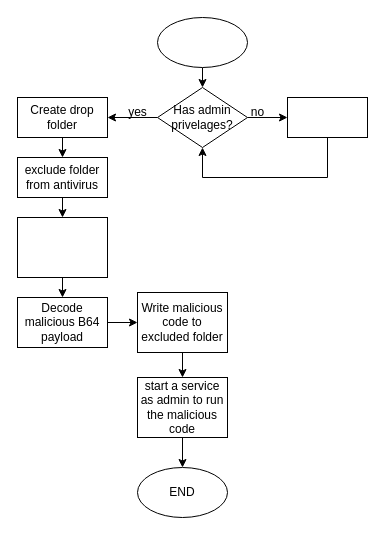
The diagram is 385 pixels wide and 535 high, and some of its shapes have lost their labels. Each missing label, with the centre of its shape:
ask to run with admin privelages: (327,117)
Dropper: (202,42)
Recreate obfscated malicious B64 code: (62,247)
